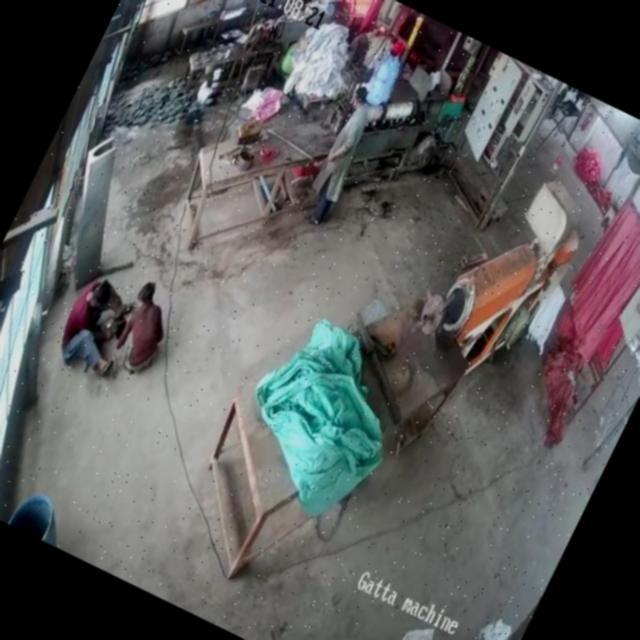person: (299, 88, 386, 226), (43, 272, 134, 388), (115, 282, 178, 368)
